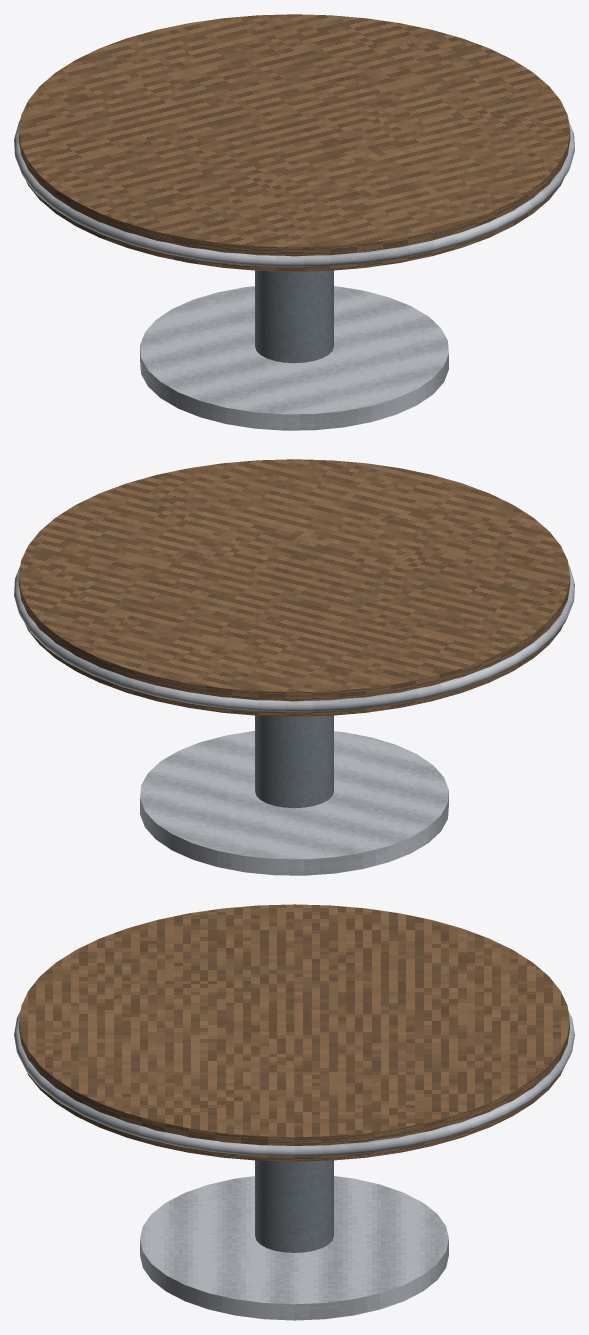
Rendered from coffee_table_round01.glb.
3 views of the same model, one above another, from view 1: azimuth 30°, elevation 25°; view 2: azimuth 150°, elevation 25°; view 3: azimuth 270°, elevation 25° (orthographic).
Visible parts, largest first — view 1: top, base, edge, pedestal; view 2: top, base, edge, pedestal; view 3: top, base, edge, pedestal.
Boxes of the visible parts, bbox=[...] form: top: bbox=[18, 14, 570, 271]; base: bbox=[140, 286, 448, 430]; edge: bbox=[14, 119, 574, 266]; pedestal: bbox=[255, 270, 333, 363]; top: bbox=[18, 459, 570, 716]; base: bbox=[140, 731, 448, 875]; edge: bbox=[14, 564, 574, 711]; pedestal: bbox=[255, 715, 333, 808]; top: bbox=[19, 904, 569, 1161]; base: bbox=[140, 1176, 448, 1320]; edge: bbox=[14, 1011, 574, 1156]; pedestal: bbox=[255, 1160, 333, 1252].
Bounding box in the file's own units: 0.998 × 0.46 × 0.998.
Materials: 3 (3 with a texture image).
